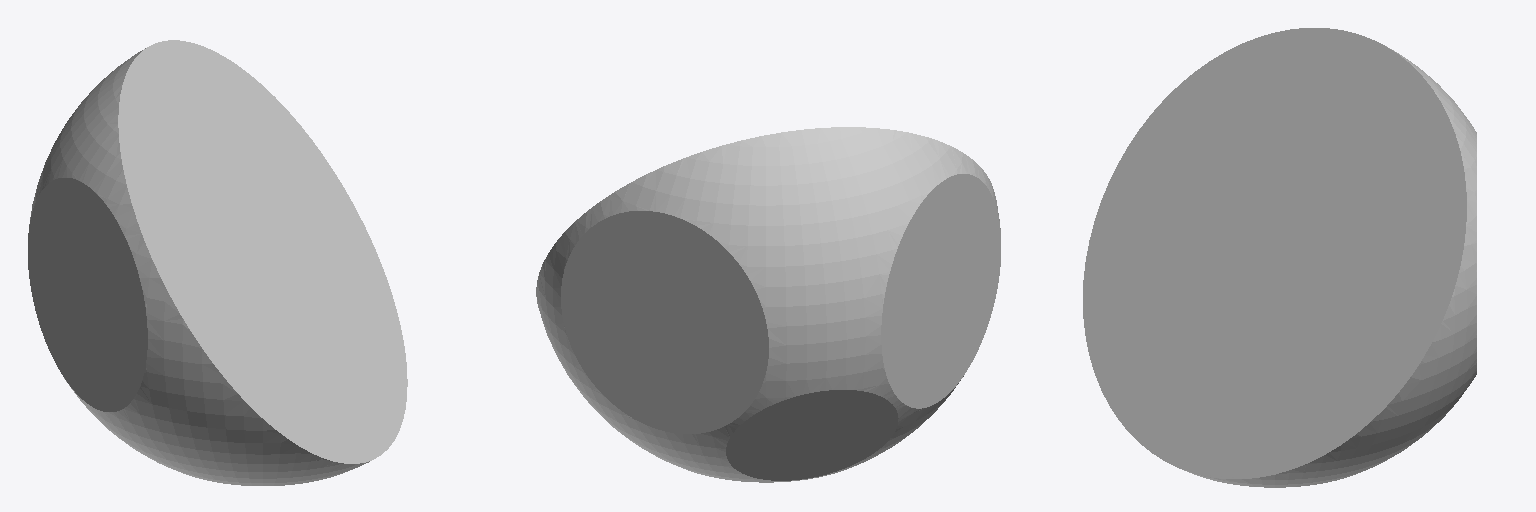
The model's file is original_hemisphere.obj.
3 renders of one model, left to right at view 1: azimuth 30°, elevation 25°; view 2: azimuth 150°, elevation 25°; view 3: azimuth 270°, elevation 25°, orthographic.
Parts seen in each view (by area): view 1: <STL_BINARY>; view 2: <STL_BINARY>; view 3: <STL_BINARY>.
Part boxes in pixels (x1,y1,x2,y2): <STL_BINARY>: (28, 40, 407, 485); <STL_BINARY>: (536, 127, 1000, 482); <STL_BINARY>: (1083, 28, 1476, 487).
Bounding box in the file's own units: 107 × 107 × 107.